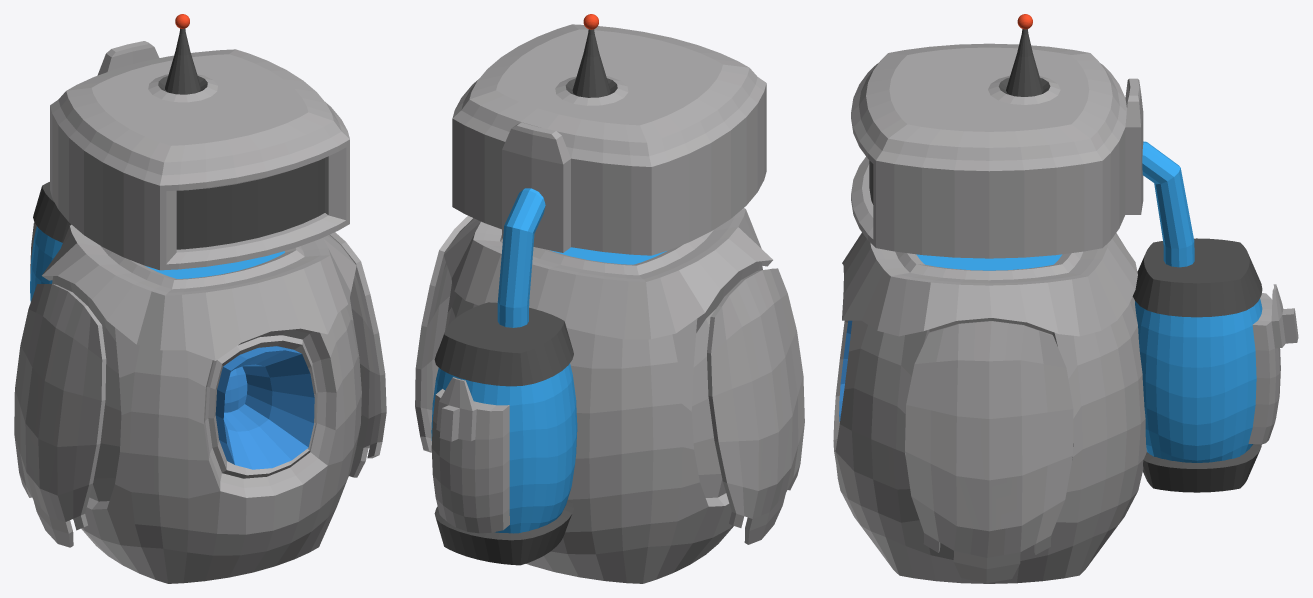
Rendered from robot_puri.fbx.
3 renders of one model, left to right at view 1: azimuth 30°, elevation 25°; view 2: azimuth 150°, elevation 25°; view 3: azimuth 270°, elevation 25°, orthographic. The views are drawn at different scales.
Parts seen in each view (by area): view 1: tuyau.001; view 2: tuyau.001; view 3: tuyau.001.
Part boxes in pixels (left/top/right/bottom): tuyau.001: left=14, top=14, right=386, bottom=583; tuyau.001: left=415, top=14, right=804, bottom=583; tuyau.001: left=833, top=14, right=1298, bottom=583.
Bounding box in the file's own units: 199 × 298 × 240.
